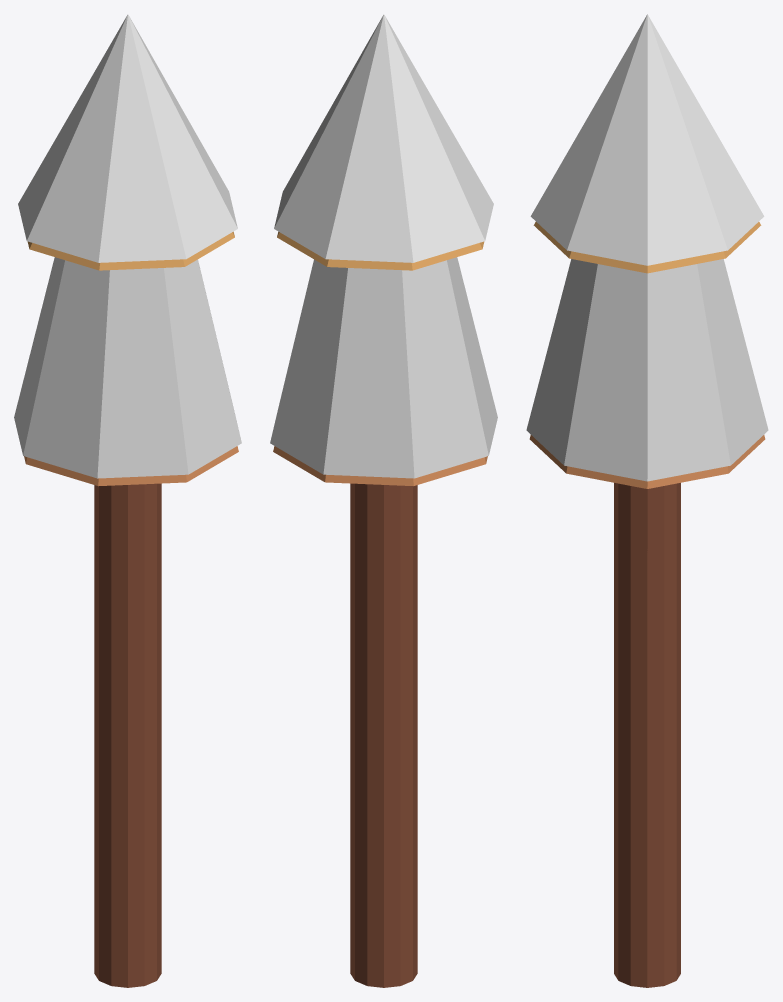
Rendered from Tree_21_winter_gradient_yellow.fbx.
3 renders of one model, left to right at view 1: azimuth 30°, elevation 25°; view 2: azimuth 150°, elevation 25°; view 3: azimuth 270°, elevation 25°, orthographic.
Parts seen in each view (by area): view 1: Tree_21_winter_gradient_yellow; view 2: Tree_21_winter_gradient_yellow; view 3: Tree_21_winter_gradient_yellow.
Boxes of the visible parts, <box> form: Tree_21_winter_gradient_yellow: <box>14,14,241,987</box>; Tree_21_winter_gradient_yellow: <box>270,14,497,987</box>; Tree_21_winter_gradient_yellow: <box>526,14,768,987</box>.
Bounding box in the file's own units: 80.03 × 350 × 80.03.
